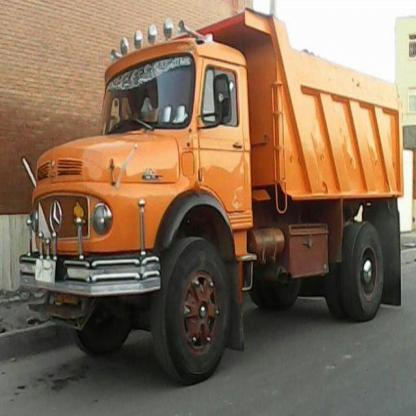Truck: (22, 8, 409, 381)
